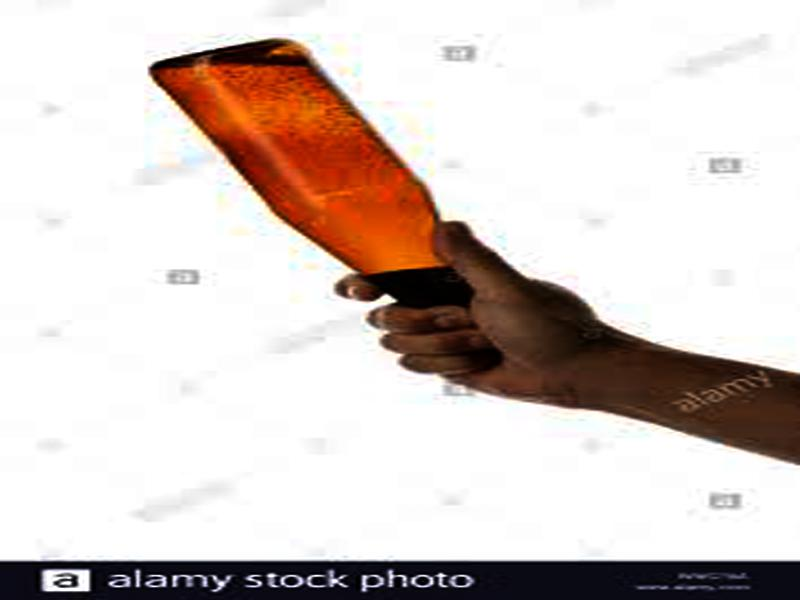Beer: (149, 36, 493, 364)
